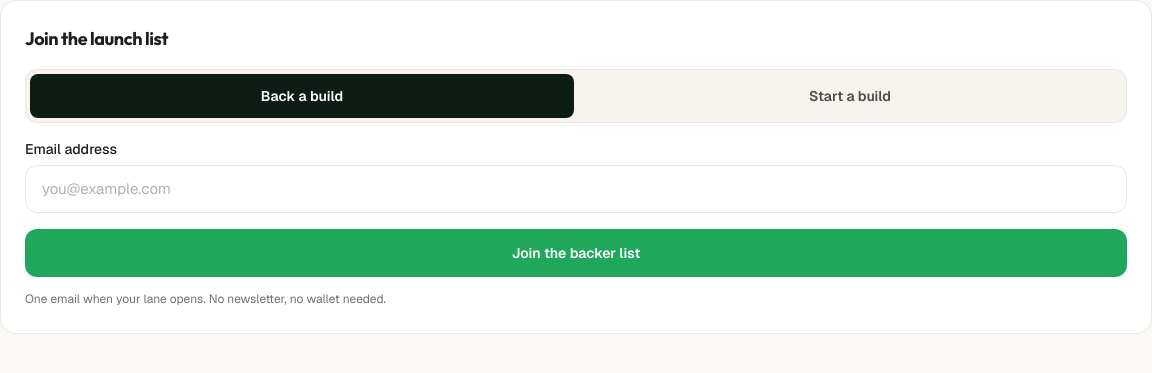
WaitlistForm › asks for an email before submitting
Note: #when the visitor submits
Click the button "Join the backer list".
click(576, 253)  # box [25,229,1127,277]
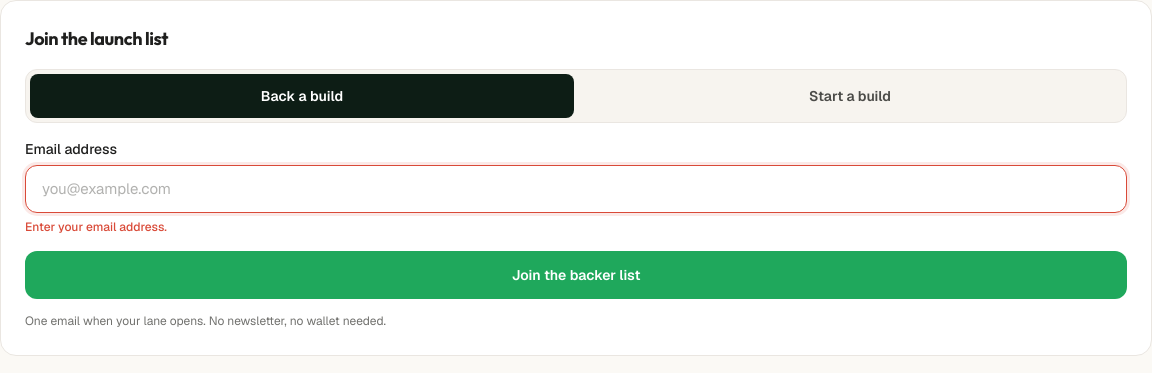
Now the text "Enter your email address." is shown, box [25,219,167,235]
